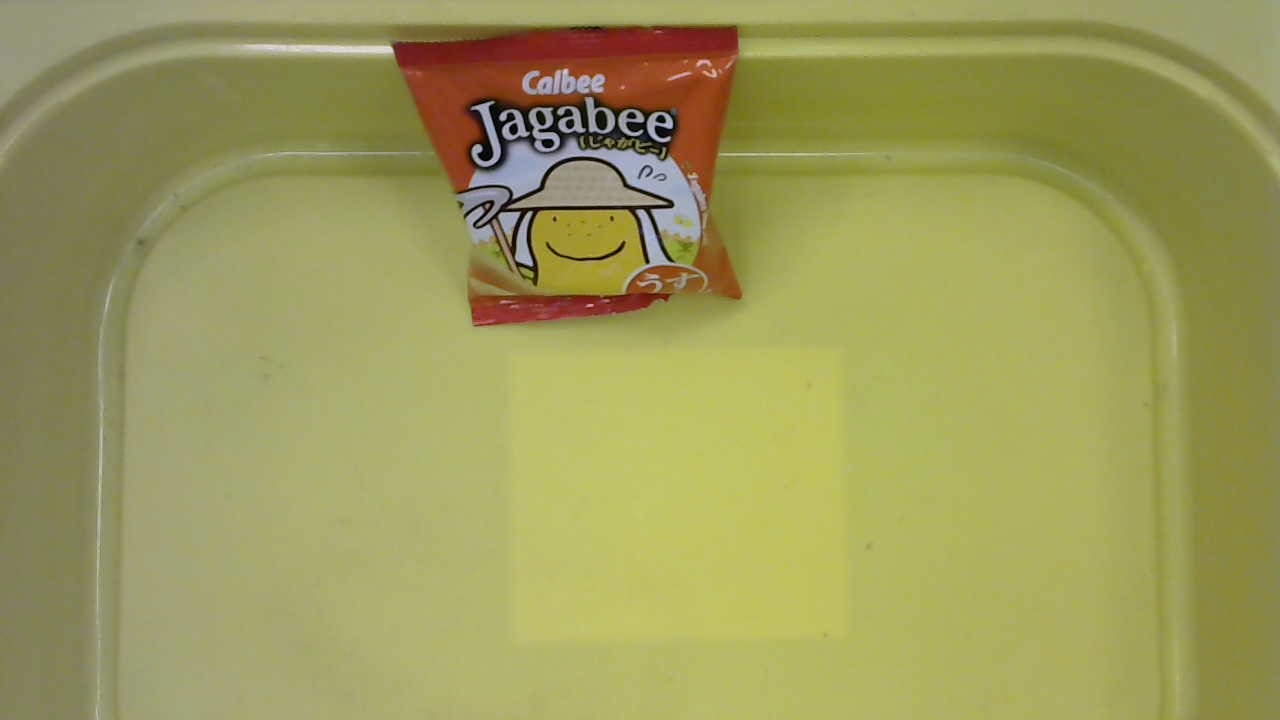JagabeeFarmer: (369, 12, 788, 354)
